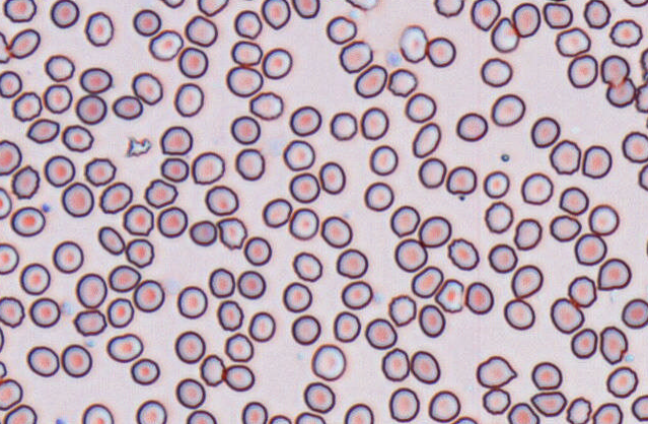PLT: (386, 53, 402, 68), (39, 202, 52, 213)
RBC: (310, 343, 346, 381), (475, 355, 516, 388), (549, 297, 584, 333), (225, 65, 263, 97), (61, 181, 94, 217), (398, 24, 428, 63), (338, 39, 372, 73), (394, 237, 427, 272), (490, 93, 525, 126), (75, 272, 107, 308), (597, 257, 631, 290), (510, 264, 543, 298), (98, 181, 132, 214), (191, 151, 225, 184), (354, 64, 387, 98), (549, 139, 581, 174), (148, 29, 183, 61), (555, 26, 591, 57), (106, 332, 143, 362), (410, 265, 443, 298), (574, 232, 607, 265), (520, 172, 553, 205), (184, 14, 217, 47), (131, 71, 163, 105), (388, 387, 419, 422), (173, 82, 204, 117), (411, 121, 441, 157), (606, 365, 638, 398), (364, 317, 397, 349), (26, 345, 59, 377), (60, 344, 92, 377), (428, 389, 460, 422), (43, 154, 75, 187), (132, 279, 164, 312), (418, 215, 451, 247), (447, 237, 479, 270), (320, 215, 352, 248), (282, 139, 315, 171), (204, 184, 238, 215), (567, 54, 598, 88), (581, 144, 612, 178), (10, 206, 45, 236), (248, 90, 283, 120), (84, 11, 114, 46), (490, 16, 519, 52), (303, 381, 335, 413), (122, 203, 154, 235), (503, 298, 535, 330), (19, 262, 50, 295), (288, 207, 319, 240), (174, 330, 205, 363), (52, 240, 83, 273), (389, 204, 420, 237), (176, 285, 207, 318), (234, 147, 265, 180), (144, 178, 178, 208), (11, 164, 40, 199), (511, 2, 540, 37), (588, 203, 619, 235), (156, 205, 187, 237), (177, 46, 208, 78), (261, 47, 292, 79), (289, 105, 321, 136), (410, 350, 440, 383), (335, 248, 368, 278), (159, 125, 192, 155), (455, 111, 488, 141), (609, 18, 643, 47), (360, 106, 389, 140), (11, 90, 42, 121), (289, 172, 320, 203), (567, 275, 597, 307), (8, 28, 40, 58), (600, 54, 630, 86), (75, 94, 107, 124), (404, 92, 436, 122), (480, 57, 512, 87), (513, 217, 542, 250), (464, 281, 493, 314), (484, 200, 513, 233), (381, 347, 409, 381), (175, 377, 205, 408), (605, 77, 636, 107), (282, 281, 312, 312), (291, 314, 321, 345), (29, 297, 60, 327), (363, 181, 394, 211), (426, 36, 456, 67), (530, 116, 560, 147), (446, 165, 477, 195), (387, 294, 416, 326), (340, 280, 372, 309), (84, 157, 116, 186), (325, 15, 357, 44), (73, 308, 106, 336), (79, 66, 112, 94), (418, 303, 445, 337), (224, 332, 254, 362), (292, 251, 322, 281), (262, 197, 292, 227), (470, 0, 500, 30), (487, 243, 517, 273), (387, 67, 417, 97), (42, 83, 72, 113), (531, 361, 562, 390), (417, 157, 446, 188), (558, 186, 589, 215), (369, 144, 398, 175), (108, 264, 140, 292), (333, 310, 361, 342), (61, 124, 93, 152), (549, 214, 581, 242), (318, 161, 345, 194), (125, 238, 154, 268), (260, 0, 290, 29), (230, 115, 260, 144), (233, 9, 262, 39), (106, 297, 134, 328), (243, 235, 271, 266), (44, 54, 75, 82), (570, 327, 597, 359), (216, 299, 243, 331), (230, 39, 262, 66), (199, 353, 225, 386), (237, 270, 266, 299), (97, 225, 125, 255), (130, 357, 160, 385), (49, 0, 79, 28), (223, 364, 254, 391), (248, 311, 275, 342), (542, 1, 573, 28), (621, 131, 647, 163), (111, 94, 143, 120), (329, 111, 357, 140), (132, 8, 161, 36), (208, 267, 235, 297), (621, 297, 647, 328), (0, 139, 22, 175), (583, 0, 611, 28), (0, 296, 25, 327), (482, 387, 510, 414), (189, 219, 217, 246), (482, 170, 509, 198), (160, 156, 189, 182), (135, 399, 166, 423), (0, 378, 23, 410), (3, 0, 36, 22), (565, 396, 591, 423), (2, 403, 37, 423), (506, 402, 539, 423), (592, 402, 623, 423), (343, 402, 374, 423), (81, 403, 113, 423), (0, 70, 22, 98), (0, 242, 19, 274), (241, 401, 267, 423), (433, 0, 464, 17), (196, 0, 228, 16), (292, 0, 320, 18), (185, 409, 216, 423), (631, 394, 647, 421), (634, 81, 647, 112), (0, 186, 12, 219), (294, 411, 325, 423), (345, 0, 378, 11), (0, 31, 10, 63), (638, 163, 647, 191), (640, 47, 648, 74), (267, 414, 291, 423), (451, 415, 477, 423), (161, 0, 184, 8), (623, 0, 647, 7), (0, 360, 7, 378), (0, 326, 4, 352), (54, 417, 67, 423), (644, 113, 648, 129), (645, 237, 648, 257)
Schistocyte: (217, 216, 250, 251), (599, 326, 628, 364), (437, 278, 463, 313), (27, 119, 58, 143), (125, 137, 153, 159)
